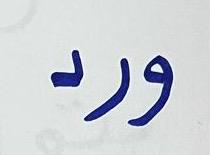lam: (49, 45, 84, 89)
reh: (85, 49, 131, 119)
waw: (133, 54, 174, 127)
